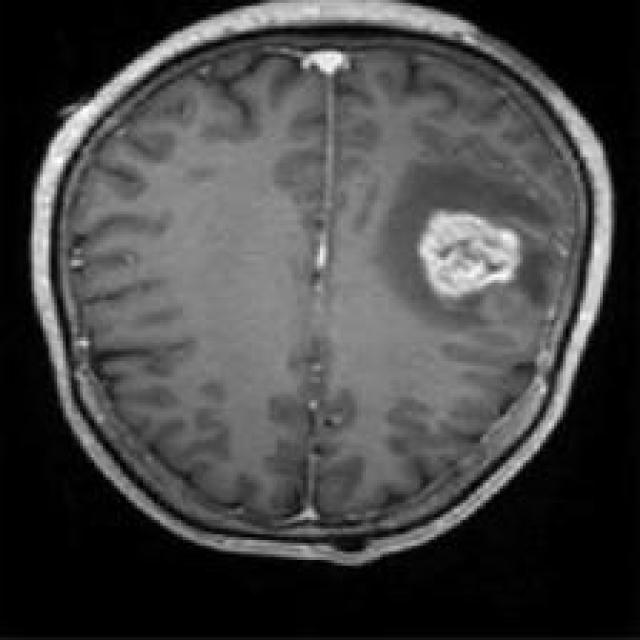glioma_tumor: (367, 152, 571, 348)
